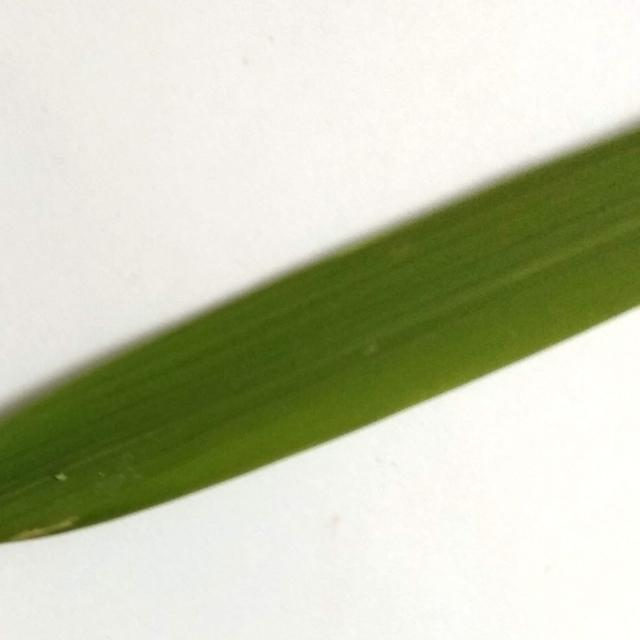Rice_Healthy: (0, 127, 640, 543)
